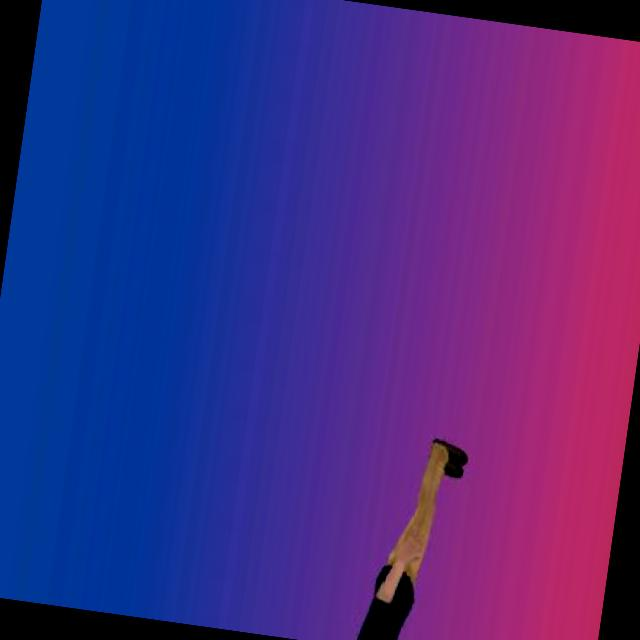Person: (349, 422, 479, 640)
